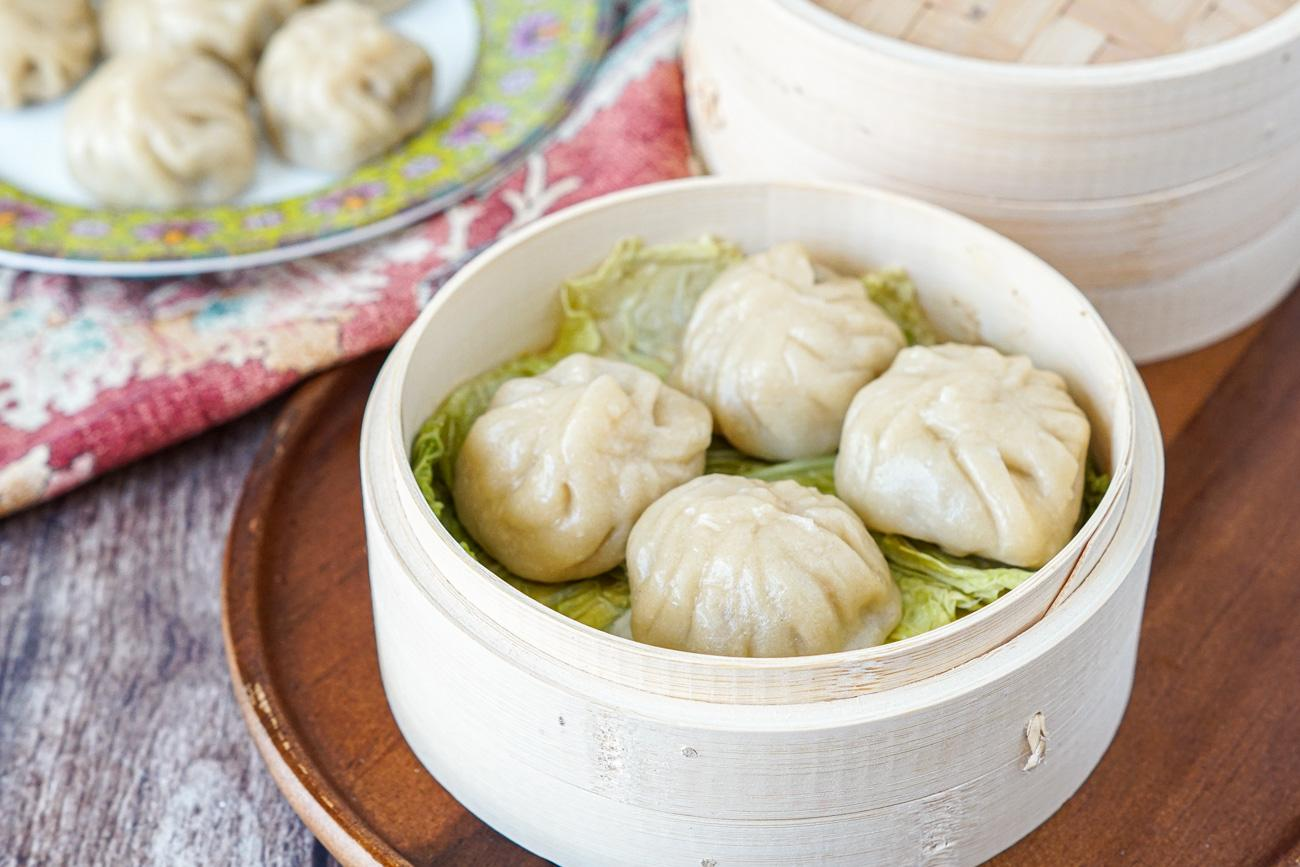momos: (454, 353, 713, 580), (835, 343, 1089, 567), (673, 241, 906, 460), (627, 475, 901, 658), (254, 0, 475, 171), (66, 51, 256, 207)
